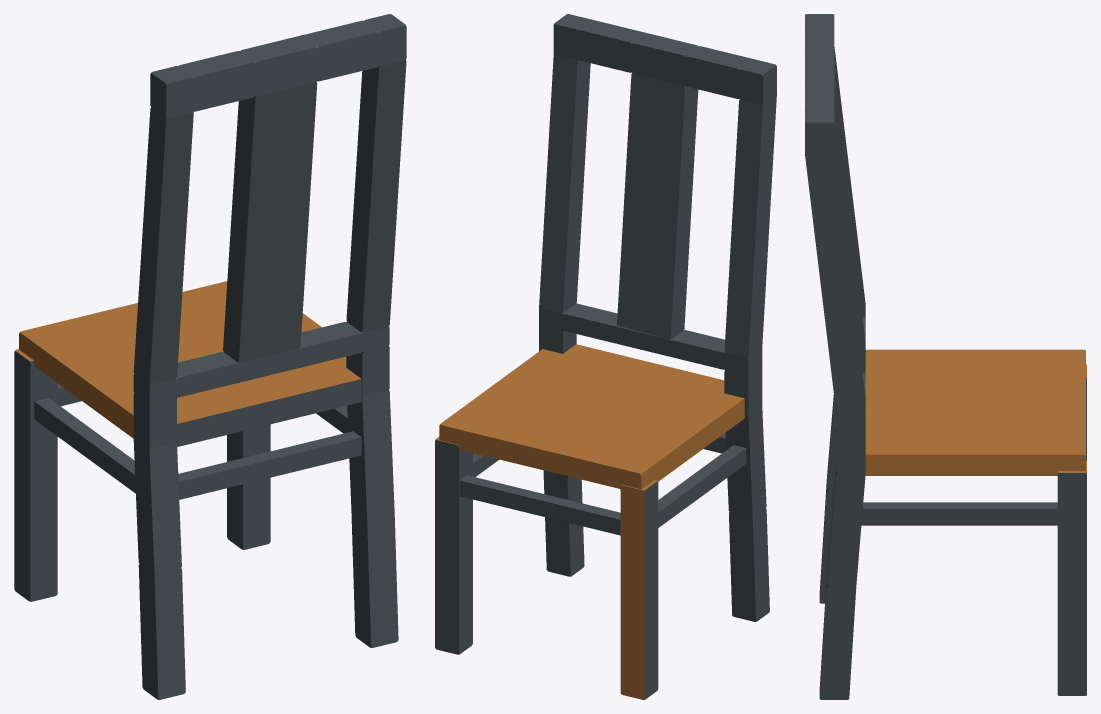
File: chair.fbx
The picture shows the model from 3 angles, left to right: view 1: azimuth 30°, elevation 25°; view 2: azimuth 150°, elevation 25°; view 3: azimuth 270°, elevation 25°; orthographic projection. The views are drawn at different scales.
Visible parts, largest first — view 1: Plane.009; view 2: Plane.009; view 3: Plane.009.
Boxes of the visible parts, x1,y1,x2,y2 form: Plane.009: [14, 14, 406, 699]; Plane.009: [435, 14, 776, 699]; Plane.009: [805, 14, 1086, 699].
Size of the model in its own units: 157 by 388 by 172.
